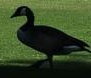goose: (6, 3, 91, 69)
